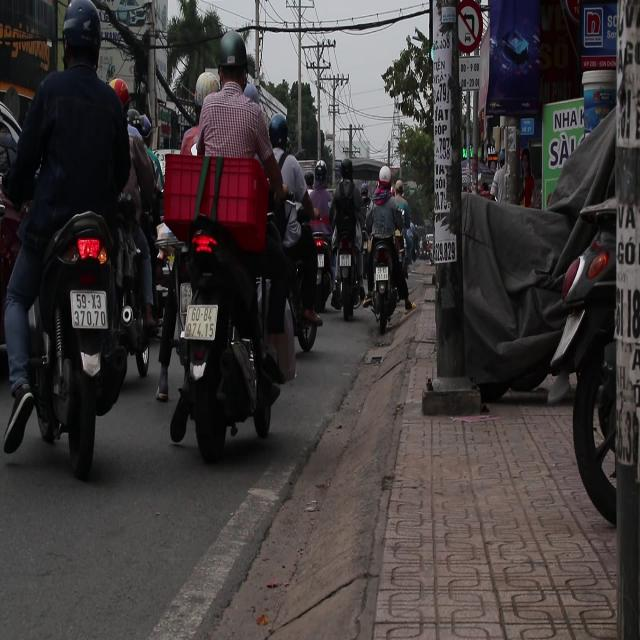motorbike: (547, 173, 624, 540), (167, 214, 270, 460), (43, 192, 124, 485), (372, 234, 400, 352), (335, 228, 363, 326), (310, 216, 337, 312)
